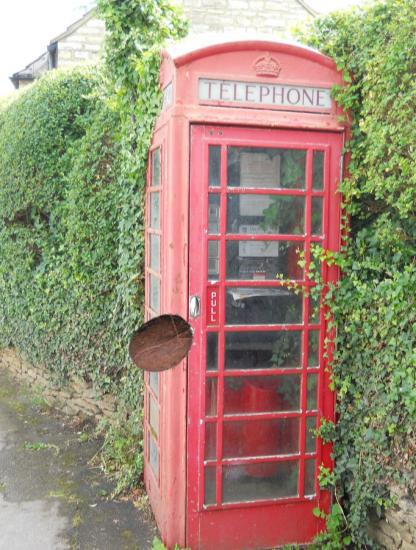Cocos: (126, 308, 195, 377)
